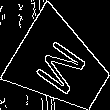M_SE: (30, 33, 93, 99)
